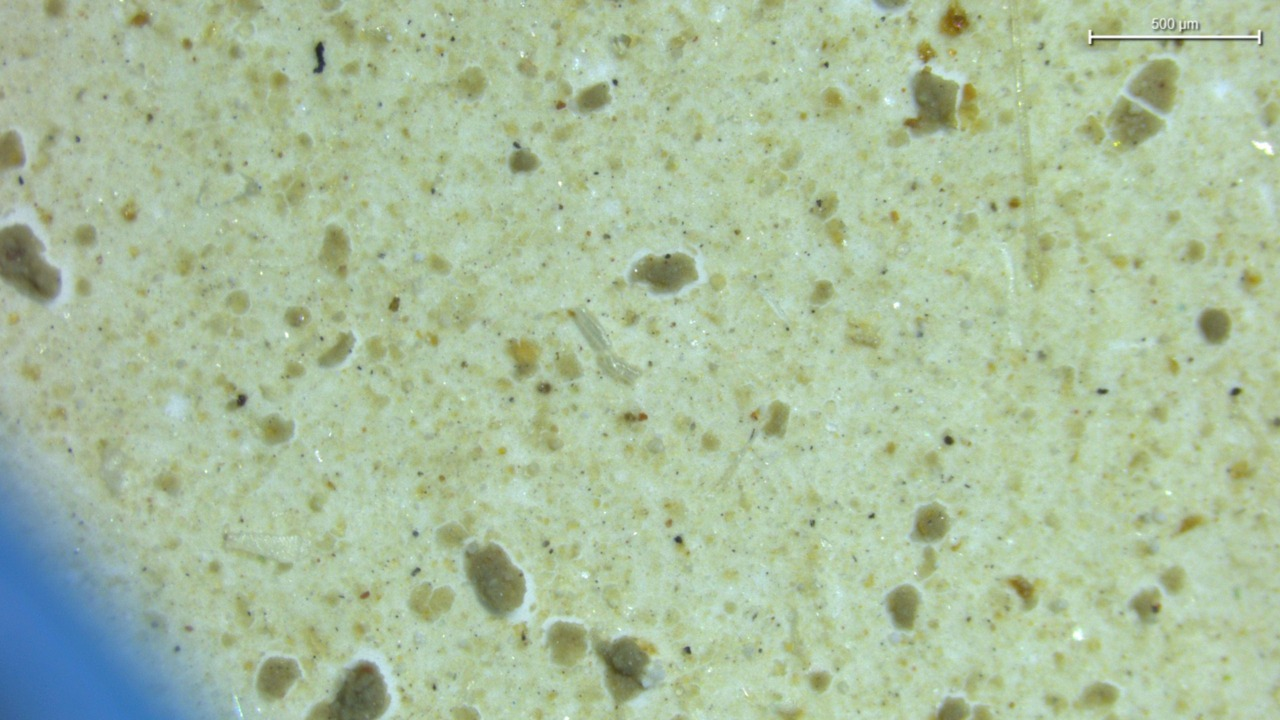microplastic_fragment: (573, 309, 637, 384), (224, 532, 310, 563)
